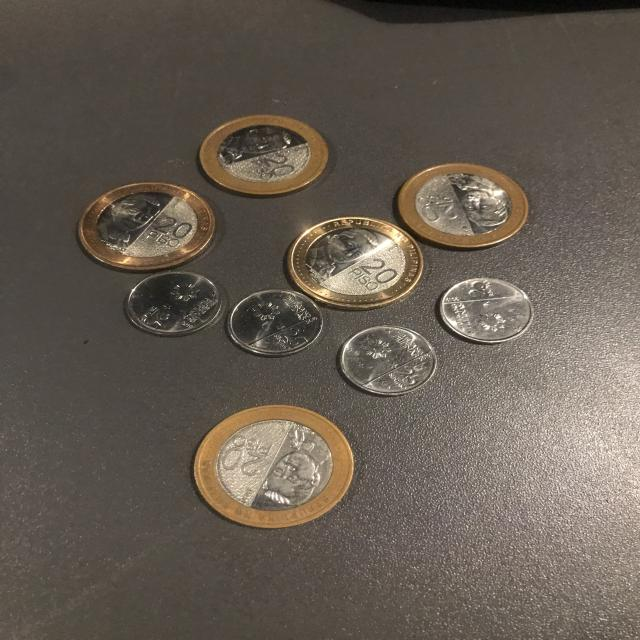20_New_Front: (220, 436, 272, 478), (146, 213, 196, 250), (345, 258, 401, 291), (247, 150, 299, 182)
25Cent_New_Front: (271, 324, 314, 351), (134, 304, 172, 330)
